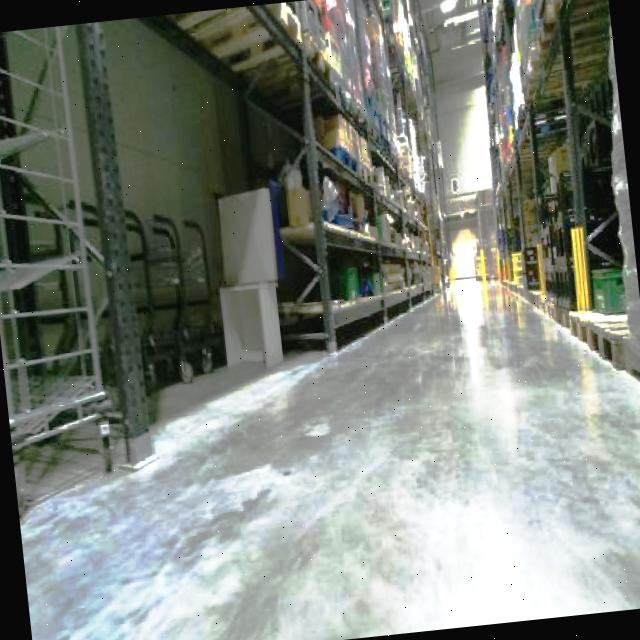ground: (0, 256, 640, 640)
pallet: (153, 0, 458, 368), (470, 0, 640, 618), (0, 23, 133, 529)
